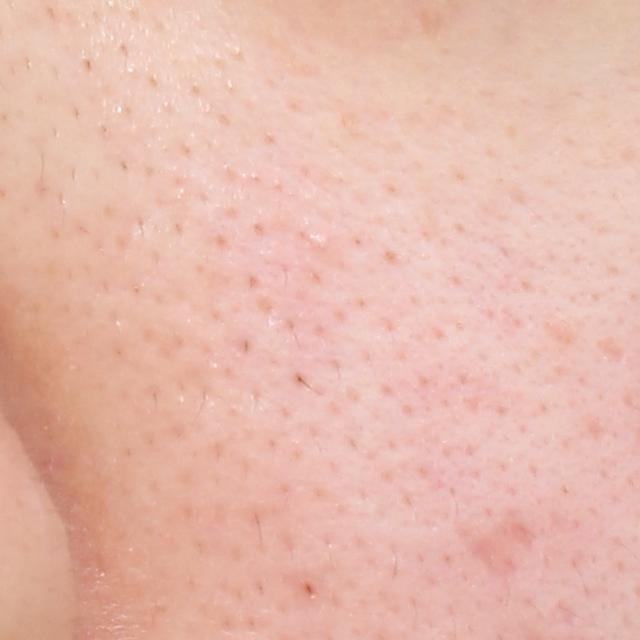atrophic_scar: (458, 507, 542, 582), (544, 598, 580, 626), (597, 336, 631, 365)
comedo: (313, 230, 335, 251)
